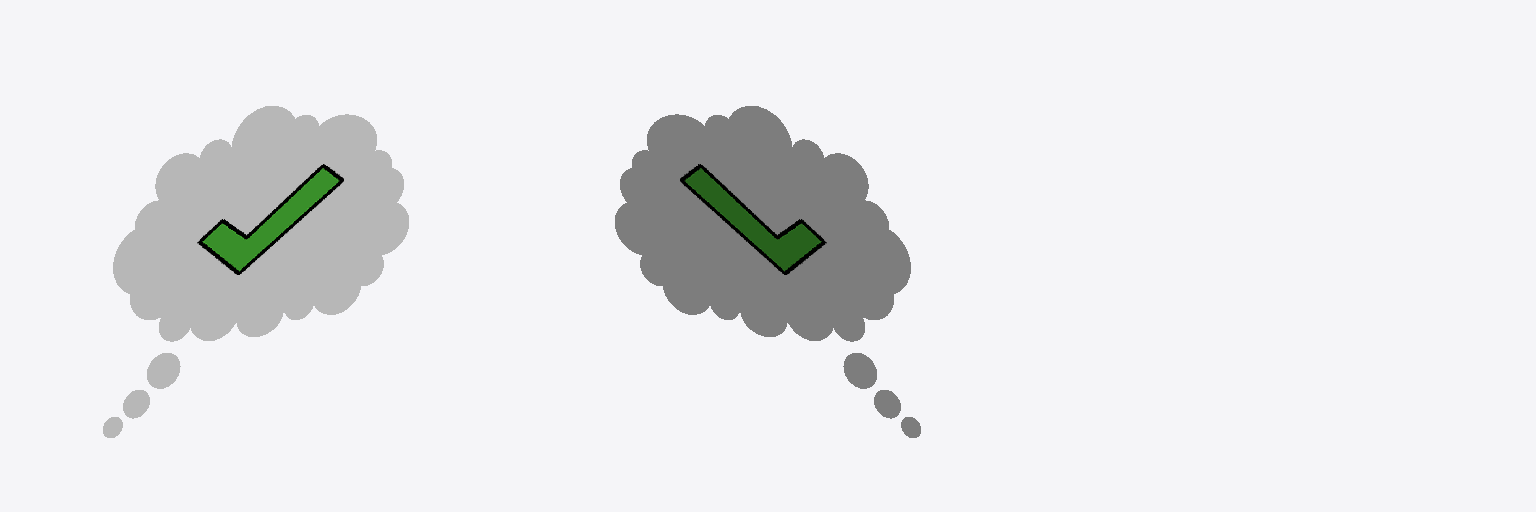
The picture shows the model from 3 angles: view 1: azimuth 30°, elevation 25°; view 2: azimuth 150°, elevation 25°; view 3: azimuth 270°, elevation 25°; orthographic projection.
Visible parts, largest first — view 1: group1 pDisc6, group1 pDisc7, group1 pDisc11, group1 pDisc9, group1 pDisc12, group1 pDisc19, group1 pDisc13, group1 pDisc20, group1 pDisc16, group1 pDisc22, group1 pDisc18, pDisc3 (+8 smaller); view 2: group1 pDisc6, group1 pDisc12, group1 pDisc7, group1 pDisc11, group1 pDisc9, group1 pDisc20, group1 pDisc19, group1 pDisc13, group1 pDisc23, group1 pDisc18, group1 pDisc22, pDisc3 (+7 smaller); view 3: none.
Boxes of the visible parts, box(x1,y1,x2,y2) form: group1 pDisc6: box(150, 142, 380, 323); group1 pDisc7: box(232, 106, 298, 177); group1 pDisc11: box(313, 114, 376, 169); group1 pDisc9: box(311, 261, 361, 314); group1 pDisc12: box(113, 223, 174, 295); group1 pDisc19: box(359, 201, 408, 255); group1 pDisc13: box(155, 153, 202, 207); group1 pDisc20: box(130, 266, 180, 319); group1 pDisc16: box(237, 293, 283, 336); group1 pDisc22: box(190, 287, 239, 340); group1 pDisc18: box(135, 200, 174, 243); pDisc3: box(147, 353, 180, 388); group1 pDisc6: box(643, 139, 872, 323); group1 pDisc12: box(843, 223, 910, 295); group1 pDisc7: box(725, 106, 792, 177); group1 pDisc11: box(647, 114, 710, 169); group1 pDisc9: box(662, 261, 712, 314); group1 pDisc20: box(843, 266, 893, 319); group1 pDisc19: box(615, 201, 664, 255); group1 pDisc13: box(819, 153, 868, 207); group1 pDisc23: box(620, 168, 659, 210); group1 pDisc18: box(849, 200, 888, 243); group1 pDisc22: box(784, 287, 833, 340); pDisc3: box(843, 353, 876, 388).
Size of the model in its own units: 1.81 by 1.66 by 0.
2 materials, 1 textured.